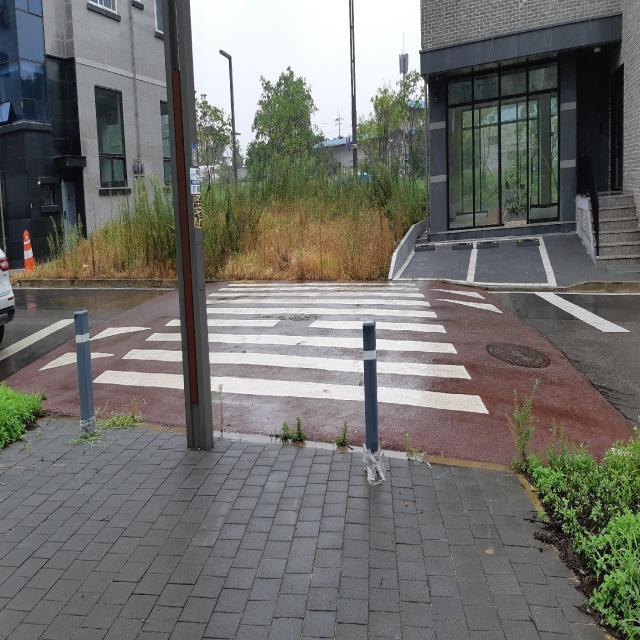횡단보도: (95, 278, 490, 419)
